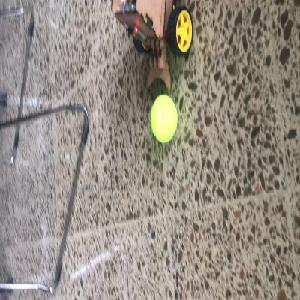Ball: (148, 95, 178, 142)
Robot: (106, 3, 195, 94)
